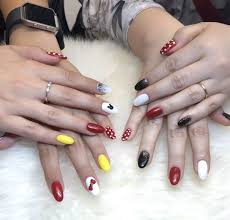nail: (84, 174, 100, 196), (50, 179, 63, 202), (97, 152, 112, 171), (45, 48, 68, 60), (101, 100, 120, 114), (197, 159, 208, 183), (86, 121, 106, 134), (169, 165, 181, 186), (138, 151, 151, 170), (160, 40, 177, 54), (104, 124, 117, 141), (56, 133, 73, 146), (95, 81, 111, 94), (131, 93, 146, 106), (147, 106, 164, 117), (133, 78, 148, 90), (120, 128, 131, 142), (176, 116, 190, 126), (222, 110, 230, 123)
